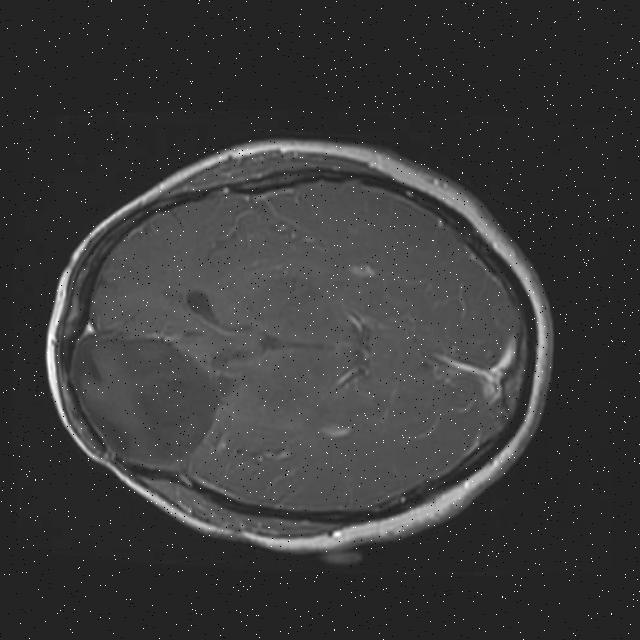Glioma: (65, 328, 229, 469)
